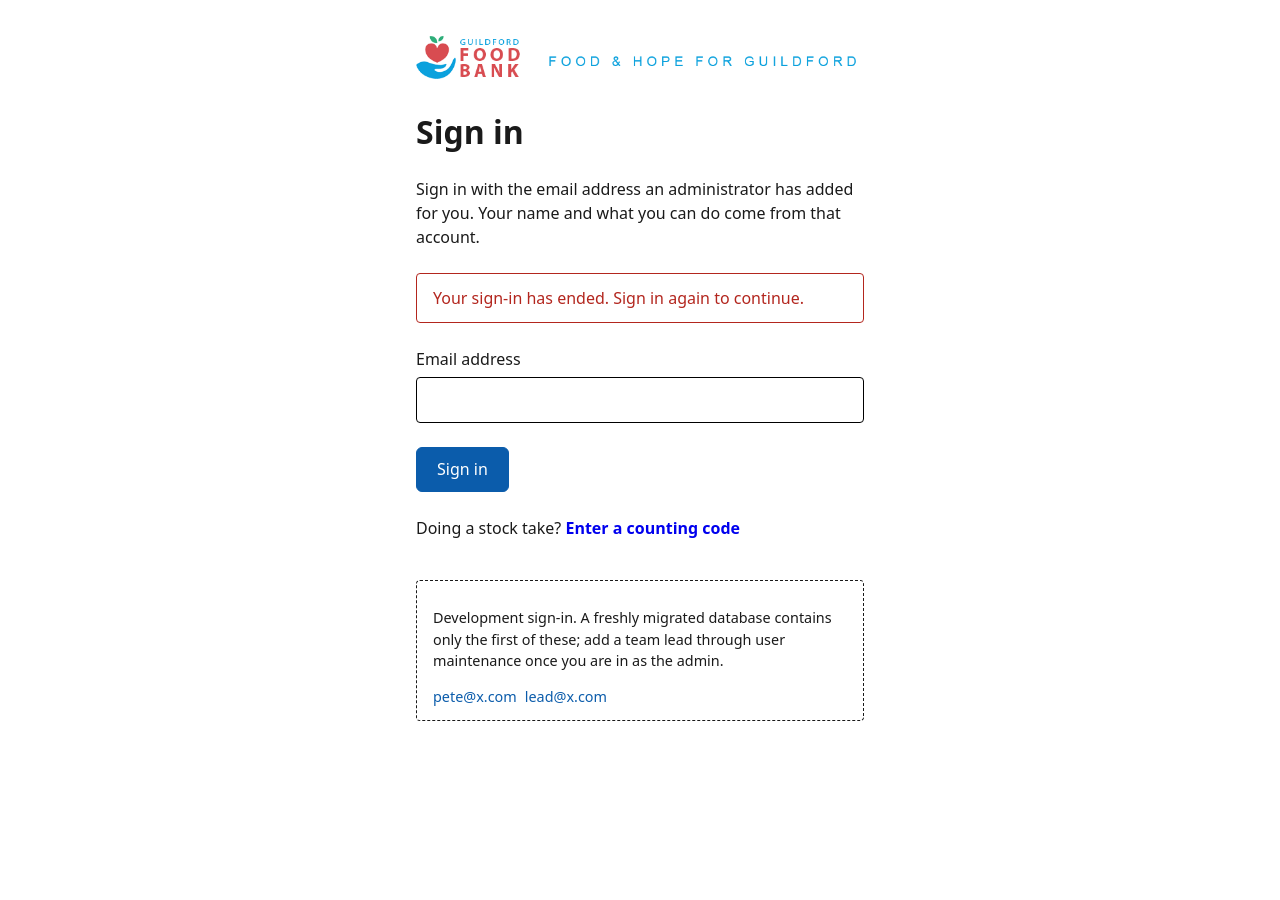
it: routing › returns them to where they were after signing in
The width and height of the screenshot is (1280, 900).
Type "lead@x.com" into the field labelled "Email address" at x=640, y=400, box [416,377,864,422]
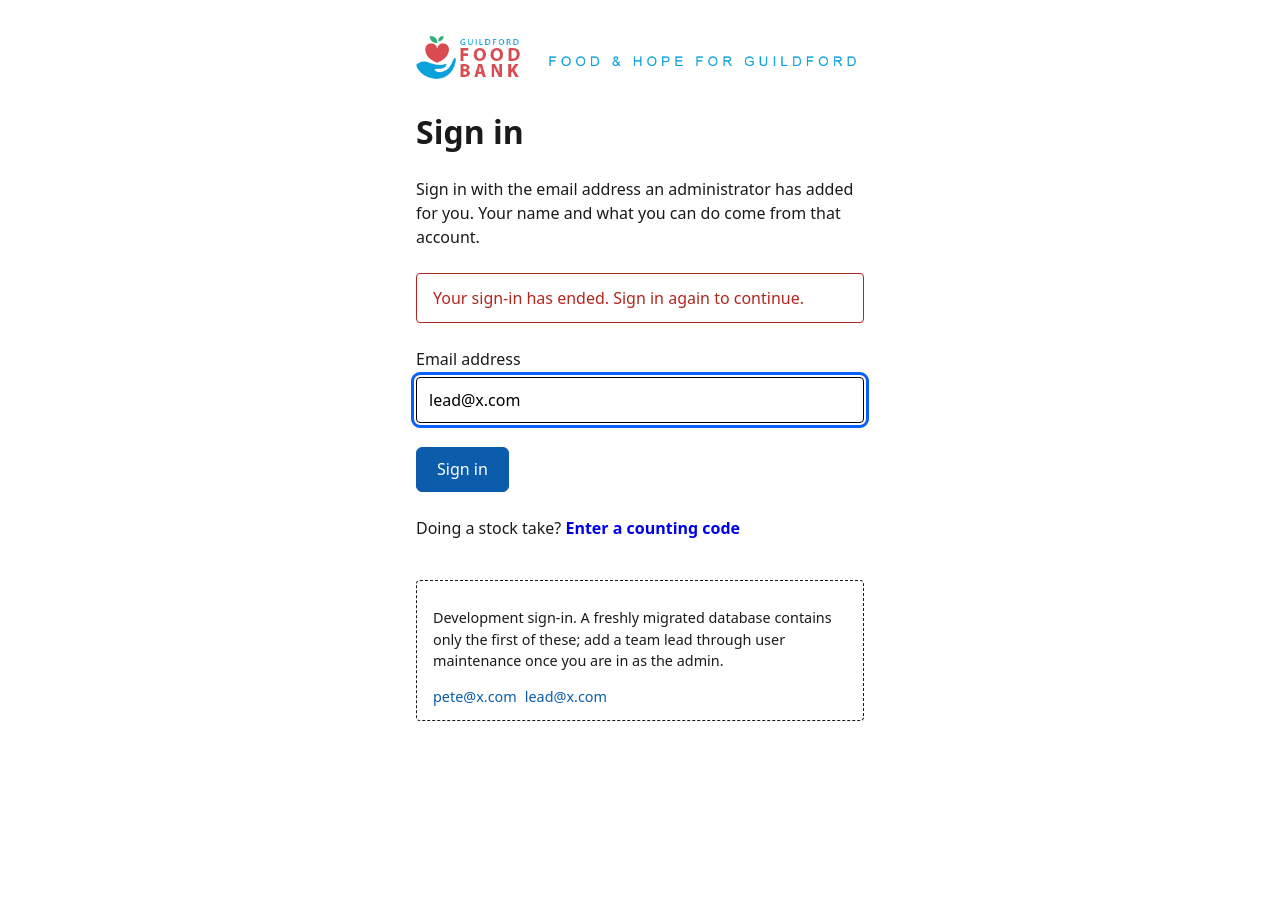
Click the button "Sign in" at x=462, y=469, box [416,446,509,492]
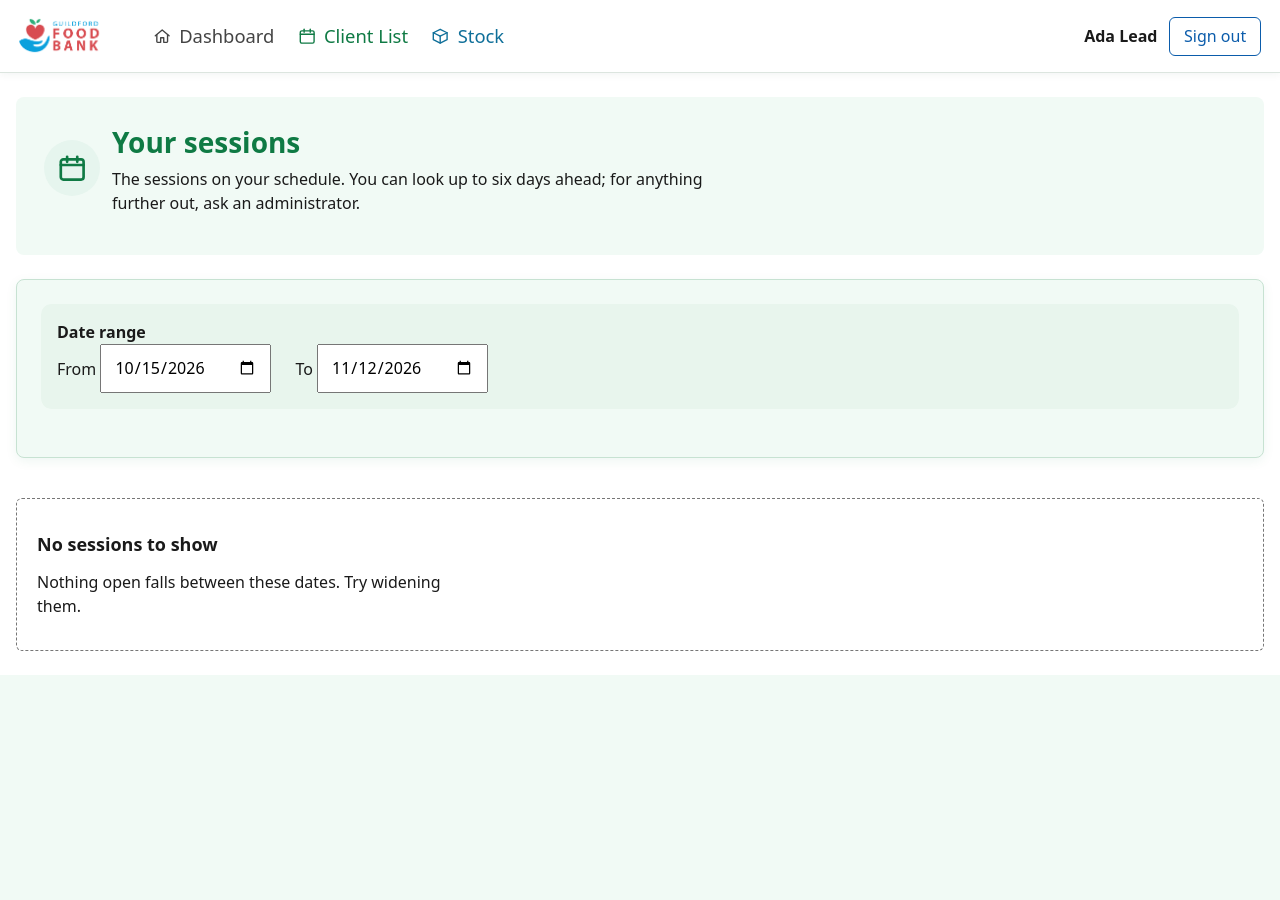
Expected: the heading "Your sessions" is shown, [112,123,300,161]
